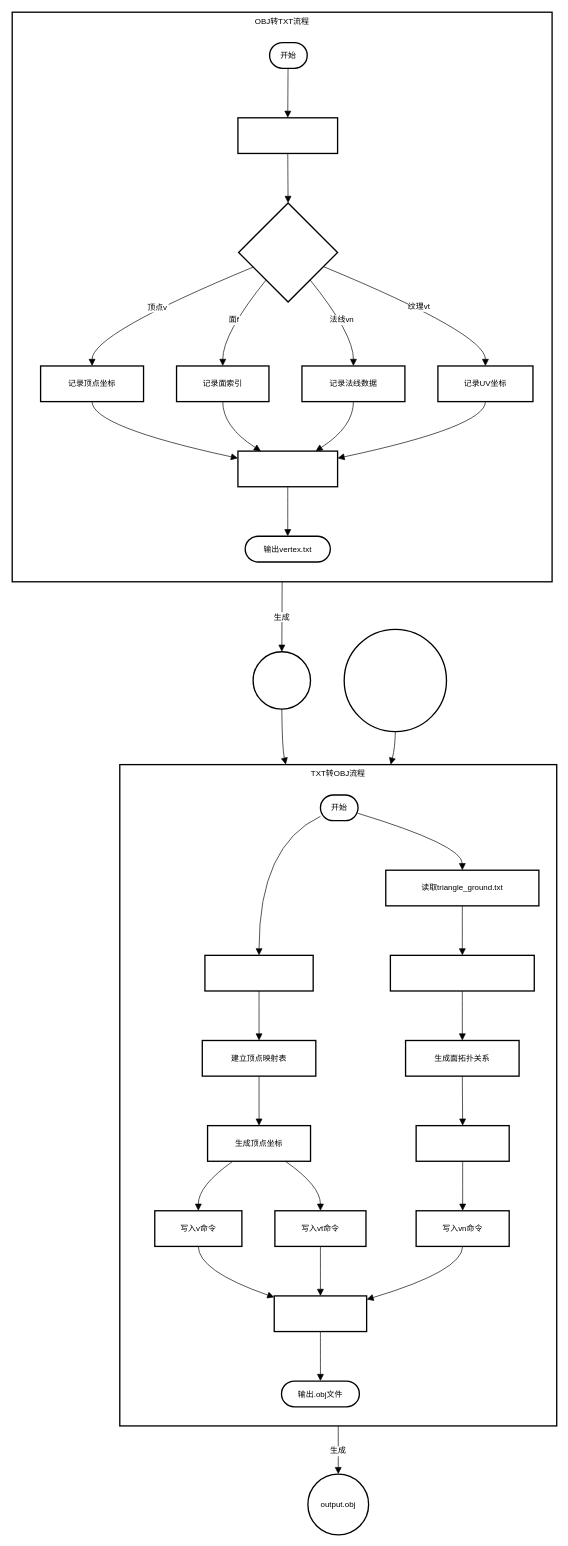
The diagram is 568 pixels wide and 1546 high, and some of its shapes have lost their labels. Each missing label, with the centre of its shape:
"triangle_ground.txt" goes at pixel 395 680.
"vertex.txt" goes at pixel 281 680.
"去重法线vn" goes at pixel 462 1143.
"生成顶点TXT" goes at pixel 287 468.
"组合面数据" goes at pixel 320 1313.
"解析元素类型" goes at pixel 288 252.
"解析面索引和objIndex" goes at pixel 462 972.
"读取OBJ文件" goes at pixel 287 135.
"读取vertex.txt" goes at pixel 259 972.
